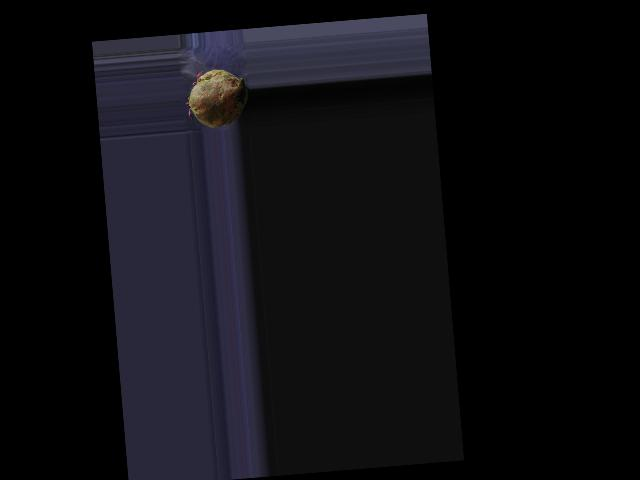beet: (184, 66, 250, 129)
